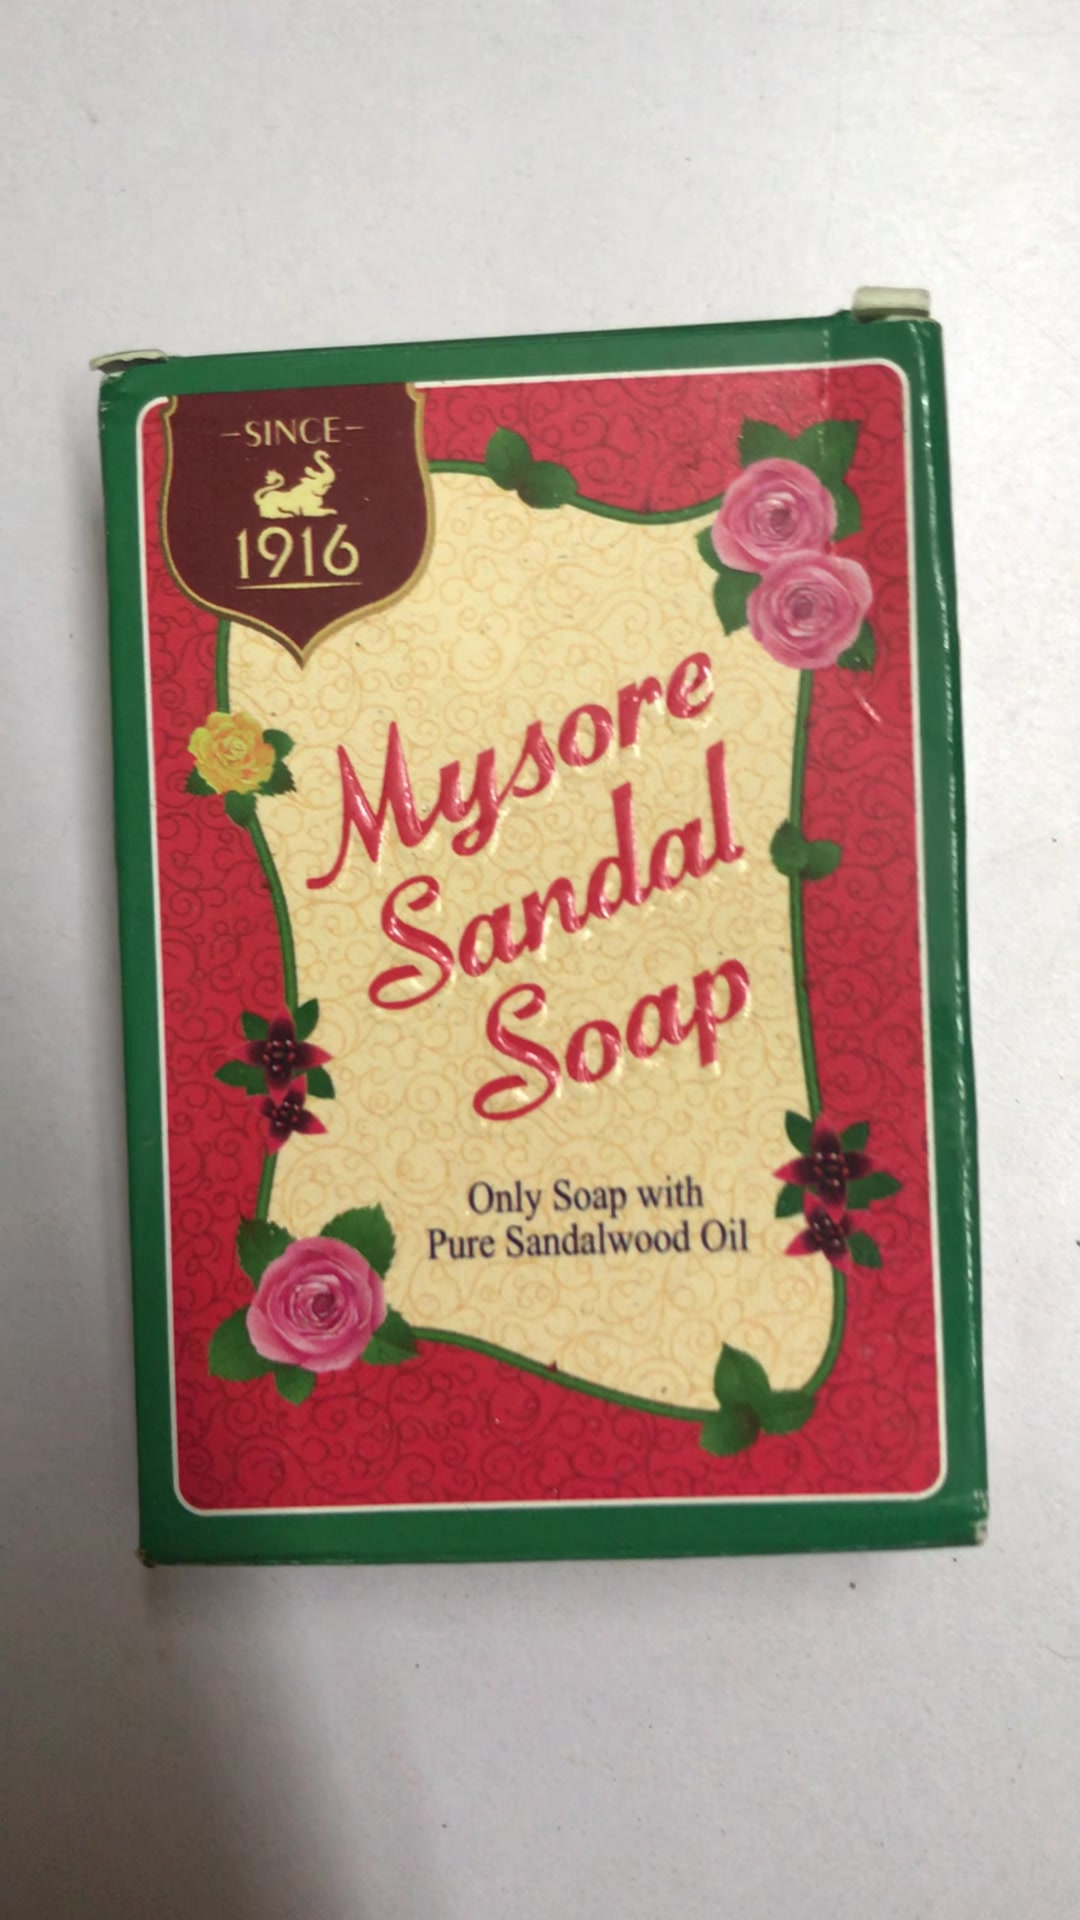mysore sandal soap: (95, 313, 993, 1557)
